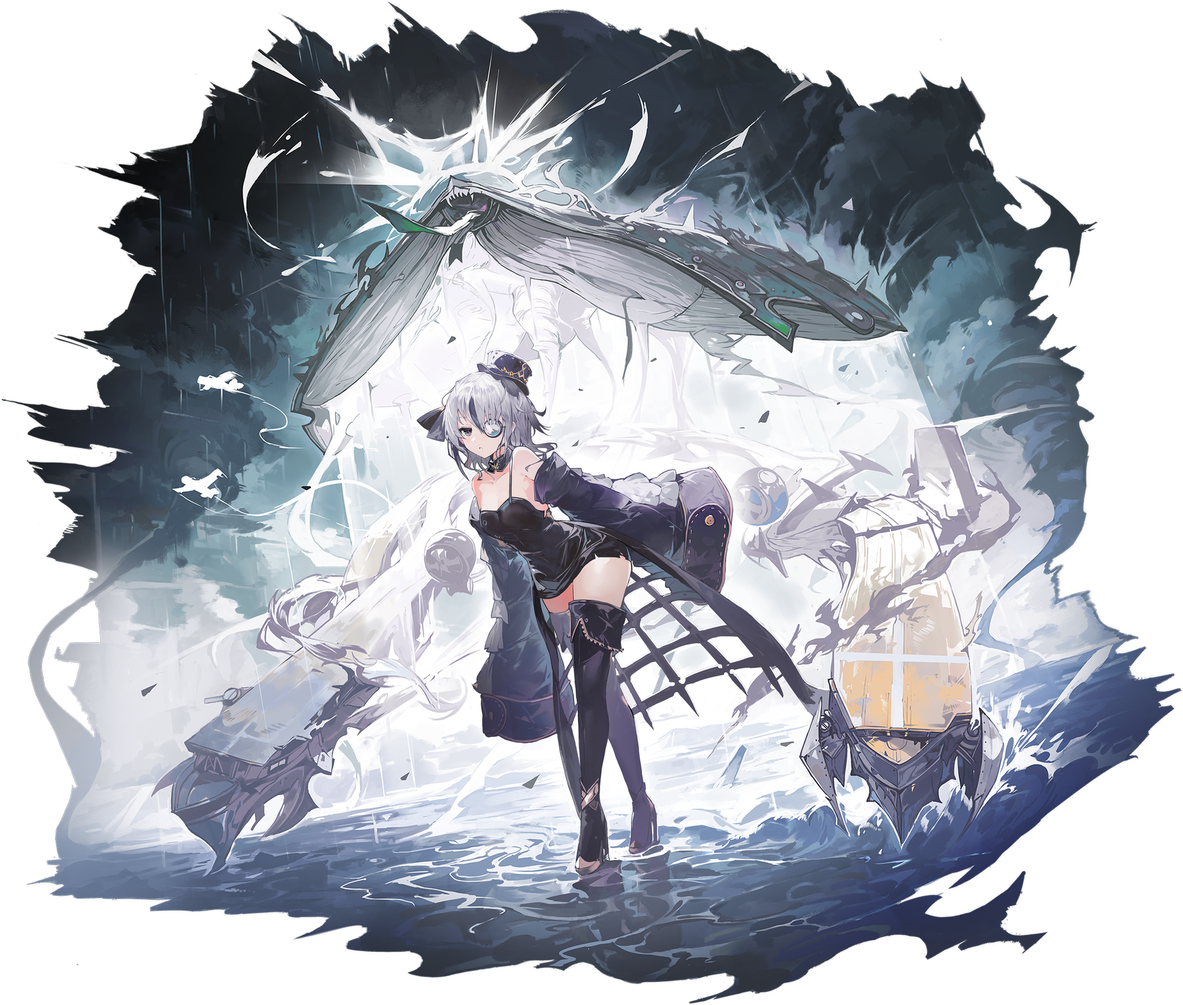person: (409, 314, 740, 903)
